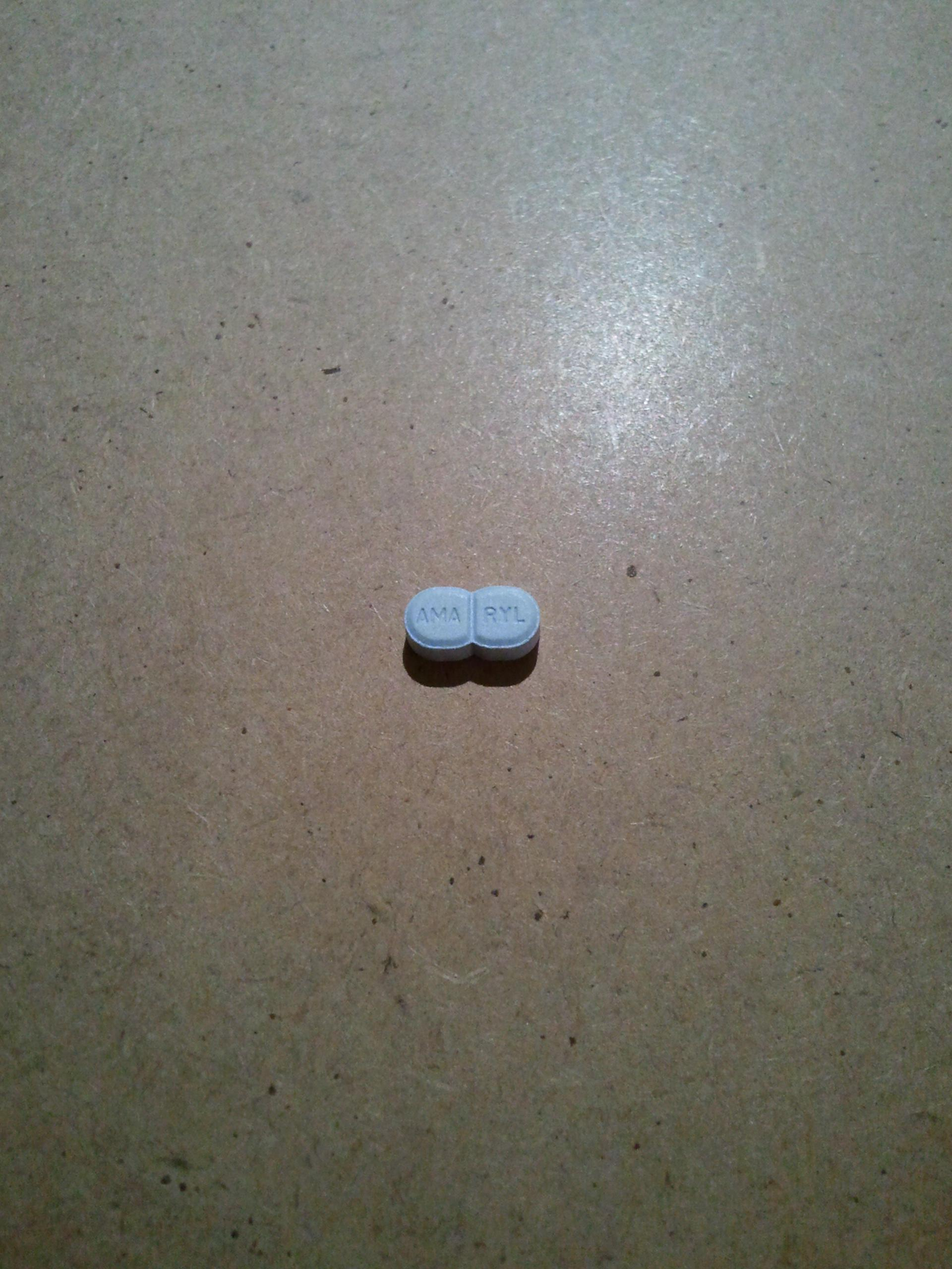Pill: (372, 555, 565, 683)
